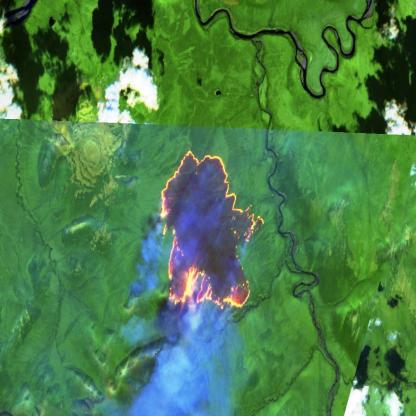fire: (156, 148, 270, 316)
